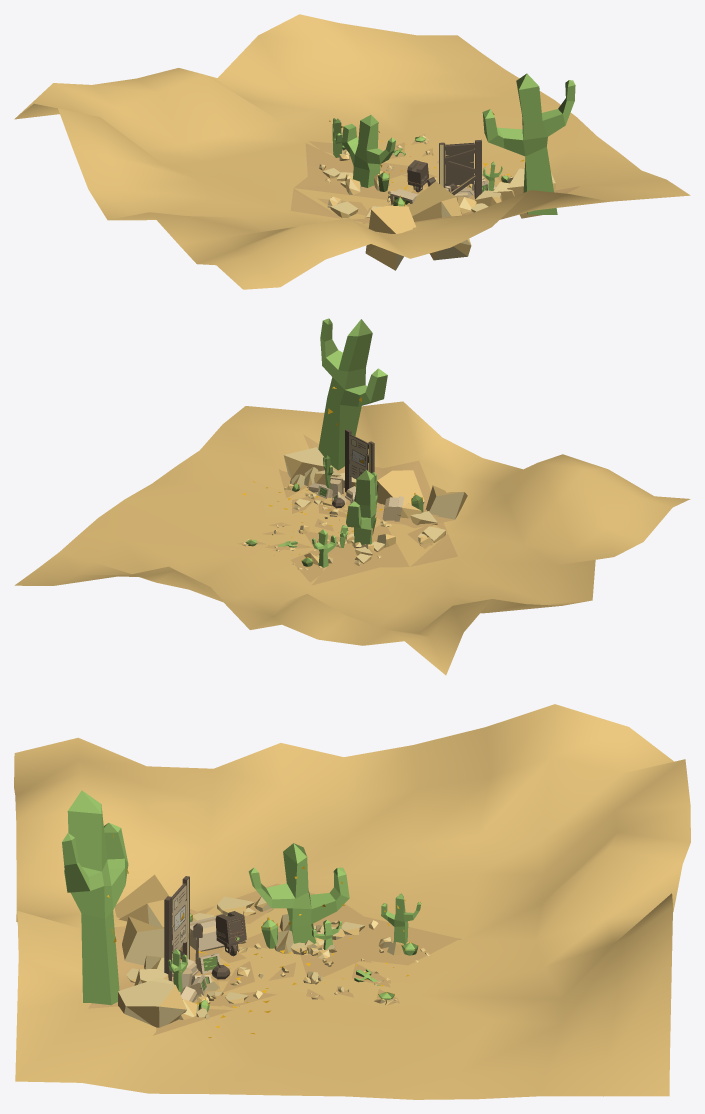
File: pconwheel_copy_3_lower.2glb.glb
The picture shows the model from 3 angles, top to bottom: view 1: azimuth 30°, elevation 25°; view 2: azimuth 150°, elevation 25°; view 3: azimuth 270°, elevation 25°; orthographic projection. The views are drawn at different scales.
Parts seen in each view (by area): view 1: floor, cactus.005, cactus, Ad-mywork, rock.061, rock.062, pc, rock.055; view 2: floor, cactus.005, cactus, Ad-mywork, rock.061, rock.062, rock.055; view 3: floor, cactus.005, cactus, rock.055, Ad-mywork, rock.062, rock.061, pc, shadow.013, cactus.001, broken-pc.006.
Boxes of the visible parts, x1,y1,x2,y2 form: floor: (14,14,690,289); cactus.005: (482,73,575,214); cactus: (341,115,395,187); Ad-mywork: (439,139,481,199); rock.061: (406,181,471,260); rock.062: (365,205,415,270); pc: (407,160,428,194); rock.055: (507,168,555,218); floor: (14,401,690,675); cactus.005: (318,318,387,470); cactus: (346,469,377,544); Ad-mywork: (345,429,374,492); rock.061: (377,470,424,506); rock.062: (425,485,467,519); rock.055: (283,447,325,478); floor: (14,704,690,1099); cactus.005: (62,790,128,1005); cactus: (248,843,349,943); rock.055: (118,981,186,1027); Ad-mywork: (164,876,189,981); rock.062: (115,874,172,927); rock.061: (122,916,190,965); pc: (215,911,246,963); shadow.013: (344,938,460,965); cactus.001: (381,893,421,944); broken-pc.006: (190,916,224,951).
Bounding box in the file's own units: 53.38 × 20.68 × 47.2.
1 material, 1 textured.
